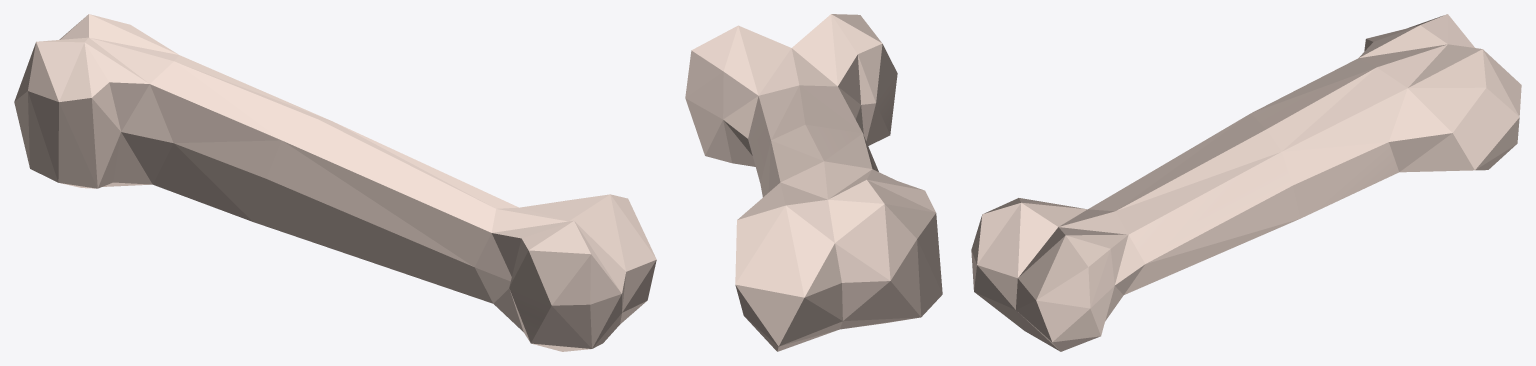
The model's file is deadSkelly_bone (1).fbx.
The picture shows the model from 3 angles, left to right: view 1: azimuth 30°, elevation 25°; view 2: azimuth 150°, elevation 25°; view 3: azimuth 270°, elevation 25°; orthographic projection. The views are drawn at different scales.
Visible parts, largest first — view 1: deadSkelly_bone (1); view 2: deadSkelly_bone (1); view 3: deadSkelly_bone (1).
Boxes of the visible parts, x1,y1,x2,y2 form: deadSkelly_bone (1): [14, 14, 656, 351]; deadSkelly_bone (1): [685, 14, 942, 351]; deadSkelly_bone (1): [971, 14, 1521, 351].
Size of the model in its own units: 0.3508 by 0.1732 by 0.4646.
